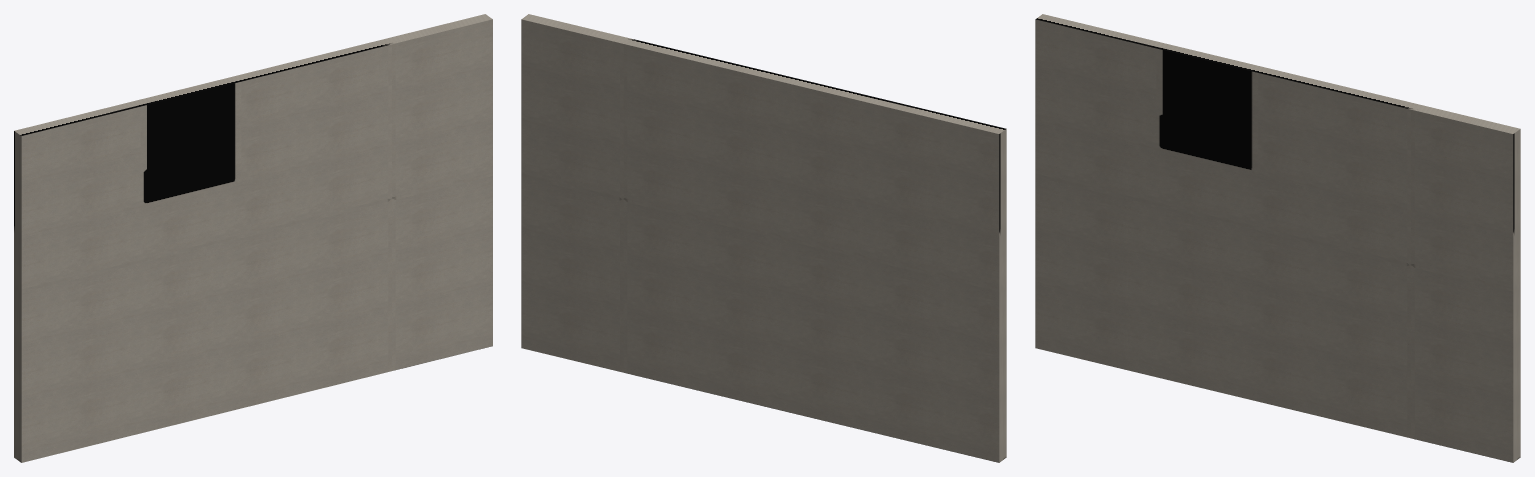
File: frontwall.glb
3 renders of one model, left to right at view 1: azimuth 30°, elevation 25°; view 2: azimuth 150°, elevation 25°; view 3: azimuth 330°, elevation 25°, orthographic.
Parts seen in each view (by area): view 1: Box001.001; view 2: Box001.001; view 3: Box001.001.
Part boxes in pixels (x1,y1,x2,y2): Box001.001: [14, 14, 492, 462]; Box001.001: [521, 14, 1006, 462]; Box001.001: [1035, 14, 1520, 462].
Size of the model in its own units: 167 by 110 by 5.59.
Materials: 1 (1 with a texture image).
